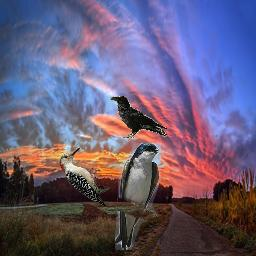Crow: (110, 96, 167, 138)
Swallow: (115, 143, 161, 250)
Woodpecker: (59, 147, 111, 207)
